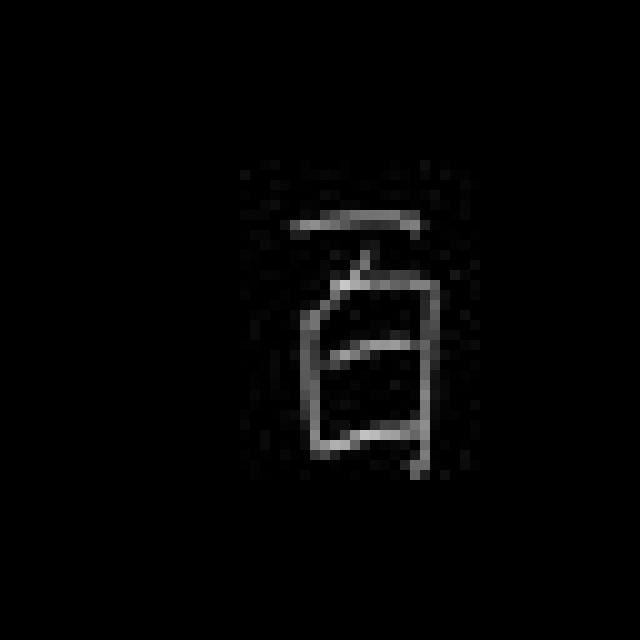100 -a hundred-: (259, 184, 448, 476)
